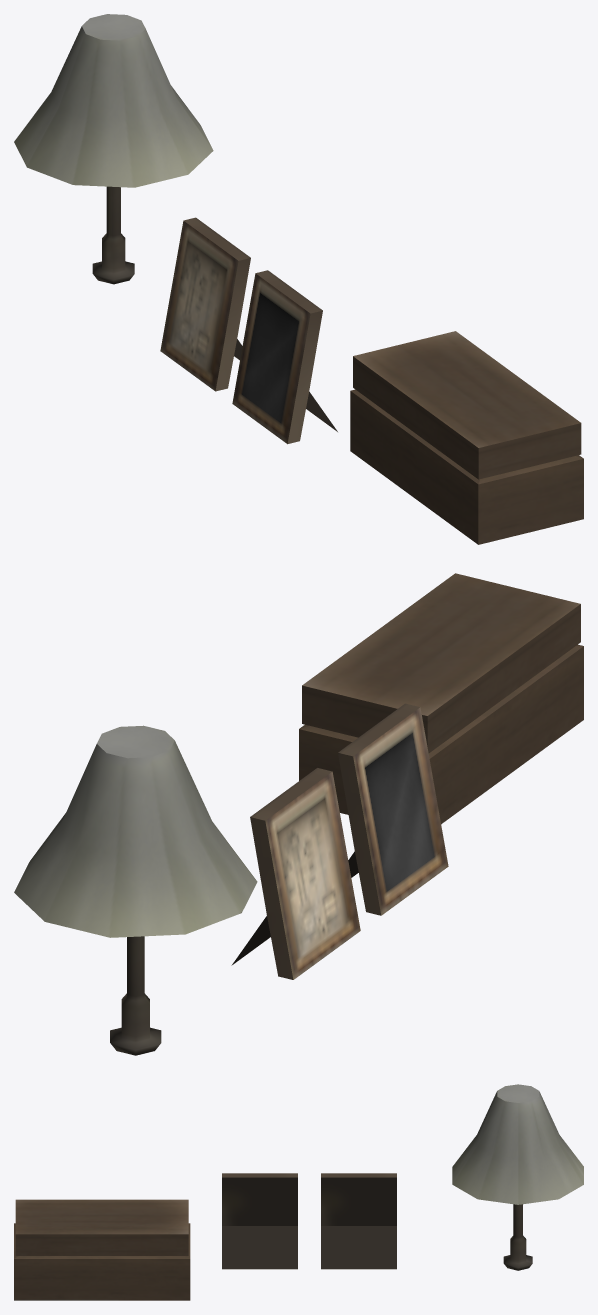
The model's file is BgMD_Tanihira_KyoujuKomono_0201.fbx.
3 views of the same model, one above another, from view 1: azimuth 30°, elevation 25°; view 2: azimuth 150°, elevation 25°; view 3: azimuth 270°, elevation 25° (orthographic). The views are drawn at different scales.
Visible parts, largest first — view 1: pCube29; view 2: pCube29; view 3: pCube29.
Boxes of the visible parts, x1,y1,x2,y2 form: pCube29: [14, 14, 583, 544]; pCube29: [14, 573, 583, 1055]; pCube29: [14, 1084, 583, 1300].
Bounding box in the file's own units: 26.77 × 33.51 × 100.
